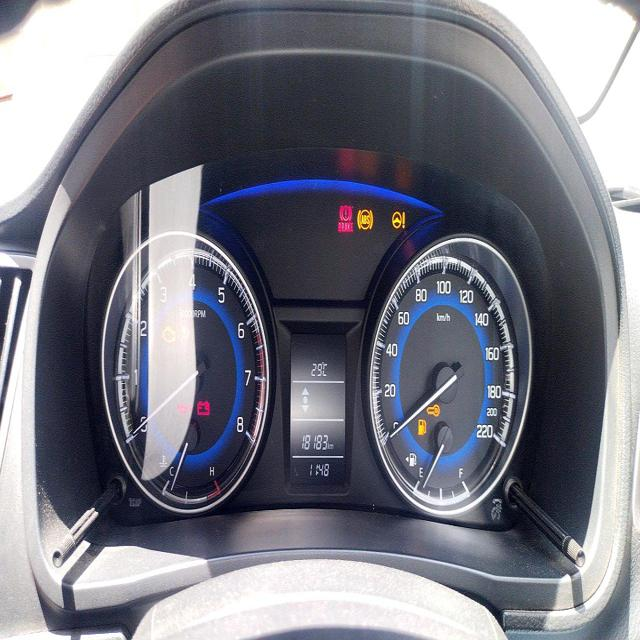odometer: (299, 423, 335, 454)
